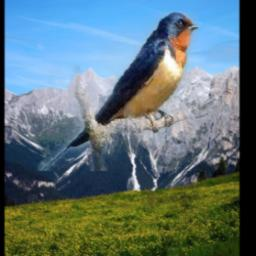Swallow: (39, 11, 199, 171)
Woodpecker: (138, 148, 154, 212)
